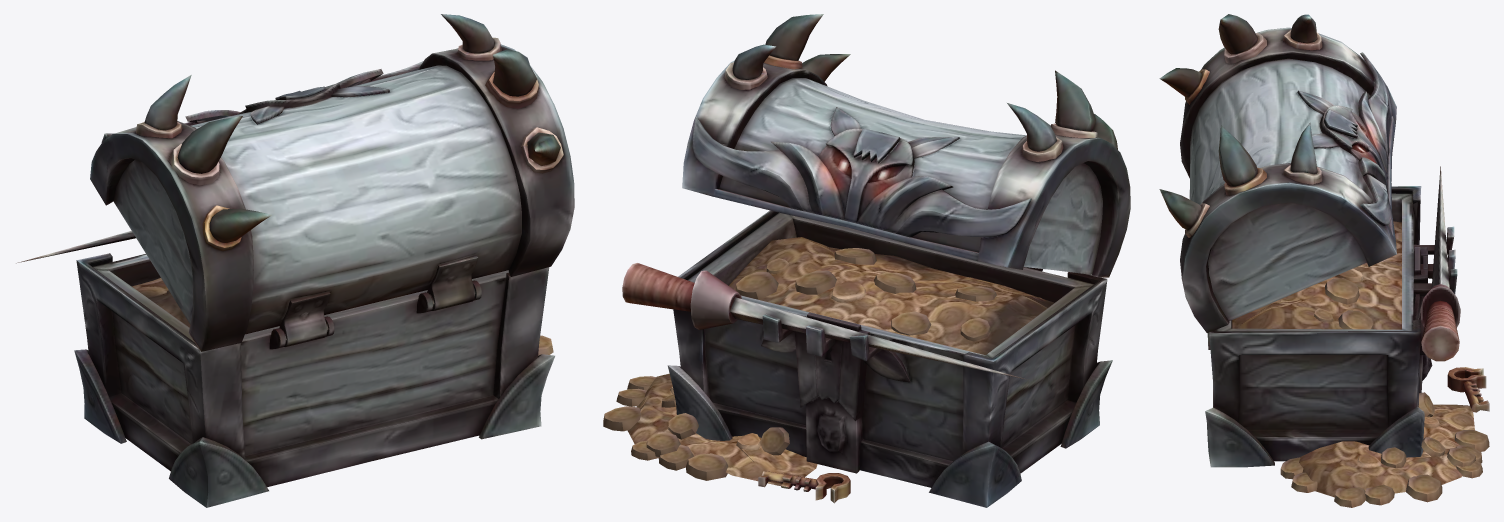
Rendered from sunken-chest.glb.
3 views of the same model, side by side, from view 1: azimuth 30°, elevation 25°; view 2: azimuth 150°, elevation 25°; view 3: azimuth 270°, elevation 25° (orthographic). The views are drawn at different scales.
Parts seen in each view (by area): view 1: Chest_Door, ChestMain; view 2: ChestMain, Chest_Door; view 3: ChestMain, Chest_Door.
Part boxes in pixels (<box>): Chest_Door: <box>90,14,574,351</box>; ChestMain: <box>16,231,554,507</box>; ChestMain: <box>603,210,1112,507</box>; Chest_Door: <box>682,14,1130,277</box>; ChestMain: <box>1205,166,1489,507</box>; Chest_Door: <box>1159,14,1396,332</box>.
Size of the model in its own units: 2.66 by 2.02 by 1.82.
Materials: 1 (1 with a texture image).
